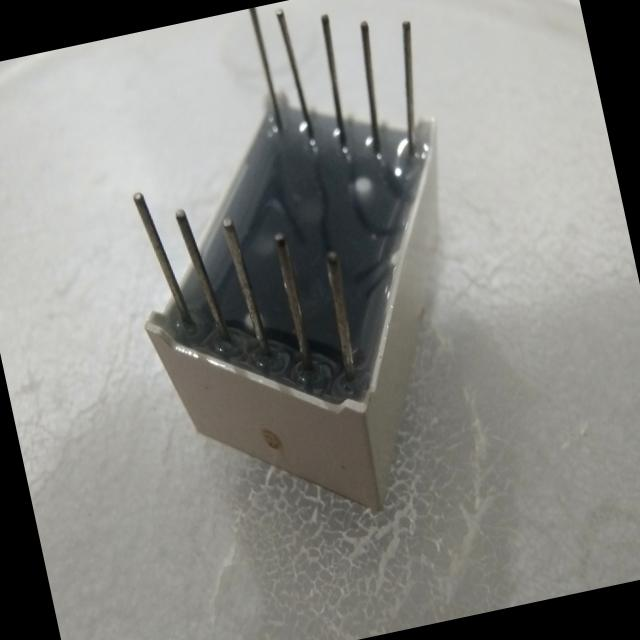7_segments: (61, 0, 530, 564)
